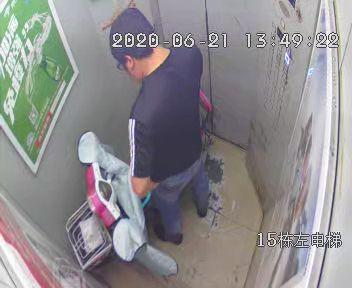Electric-bicycle: (62, 88, 210, 263)
